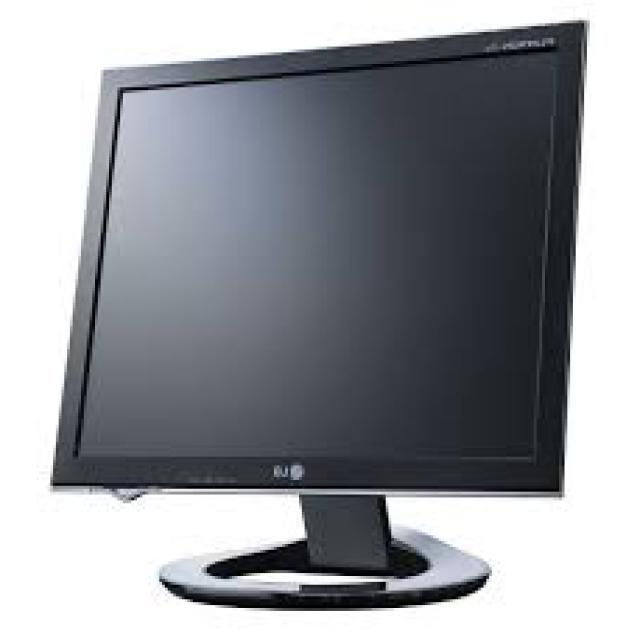monitor: (46, 12, 601, 617)
